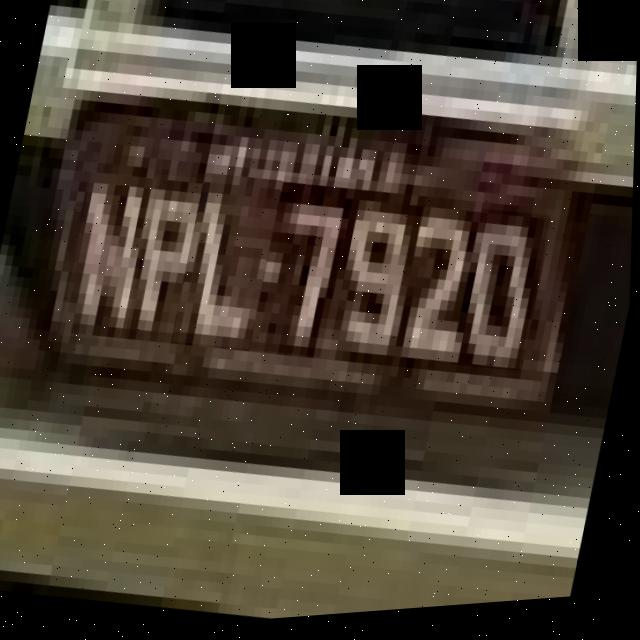0: (452, 212, 552, 383)
7: (251, 176, 356, 366)
9: (329, 188, 429, 369)
L: (173, 172, 284, 359)
N: (61, 169, 158, 347)
P: (120, 172, 214, 351)
